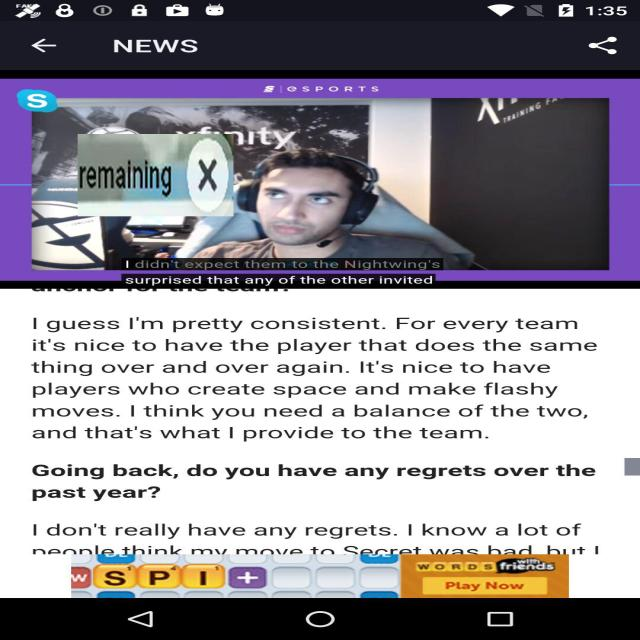misdirection: (78, 134, 234, 216)
